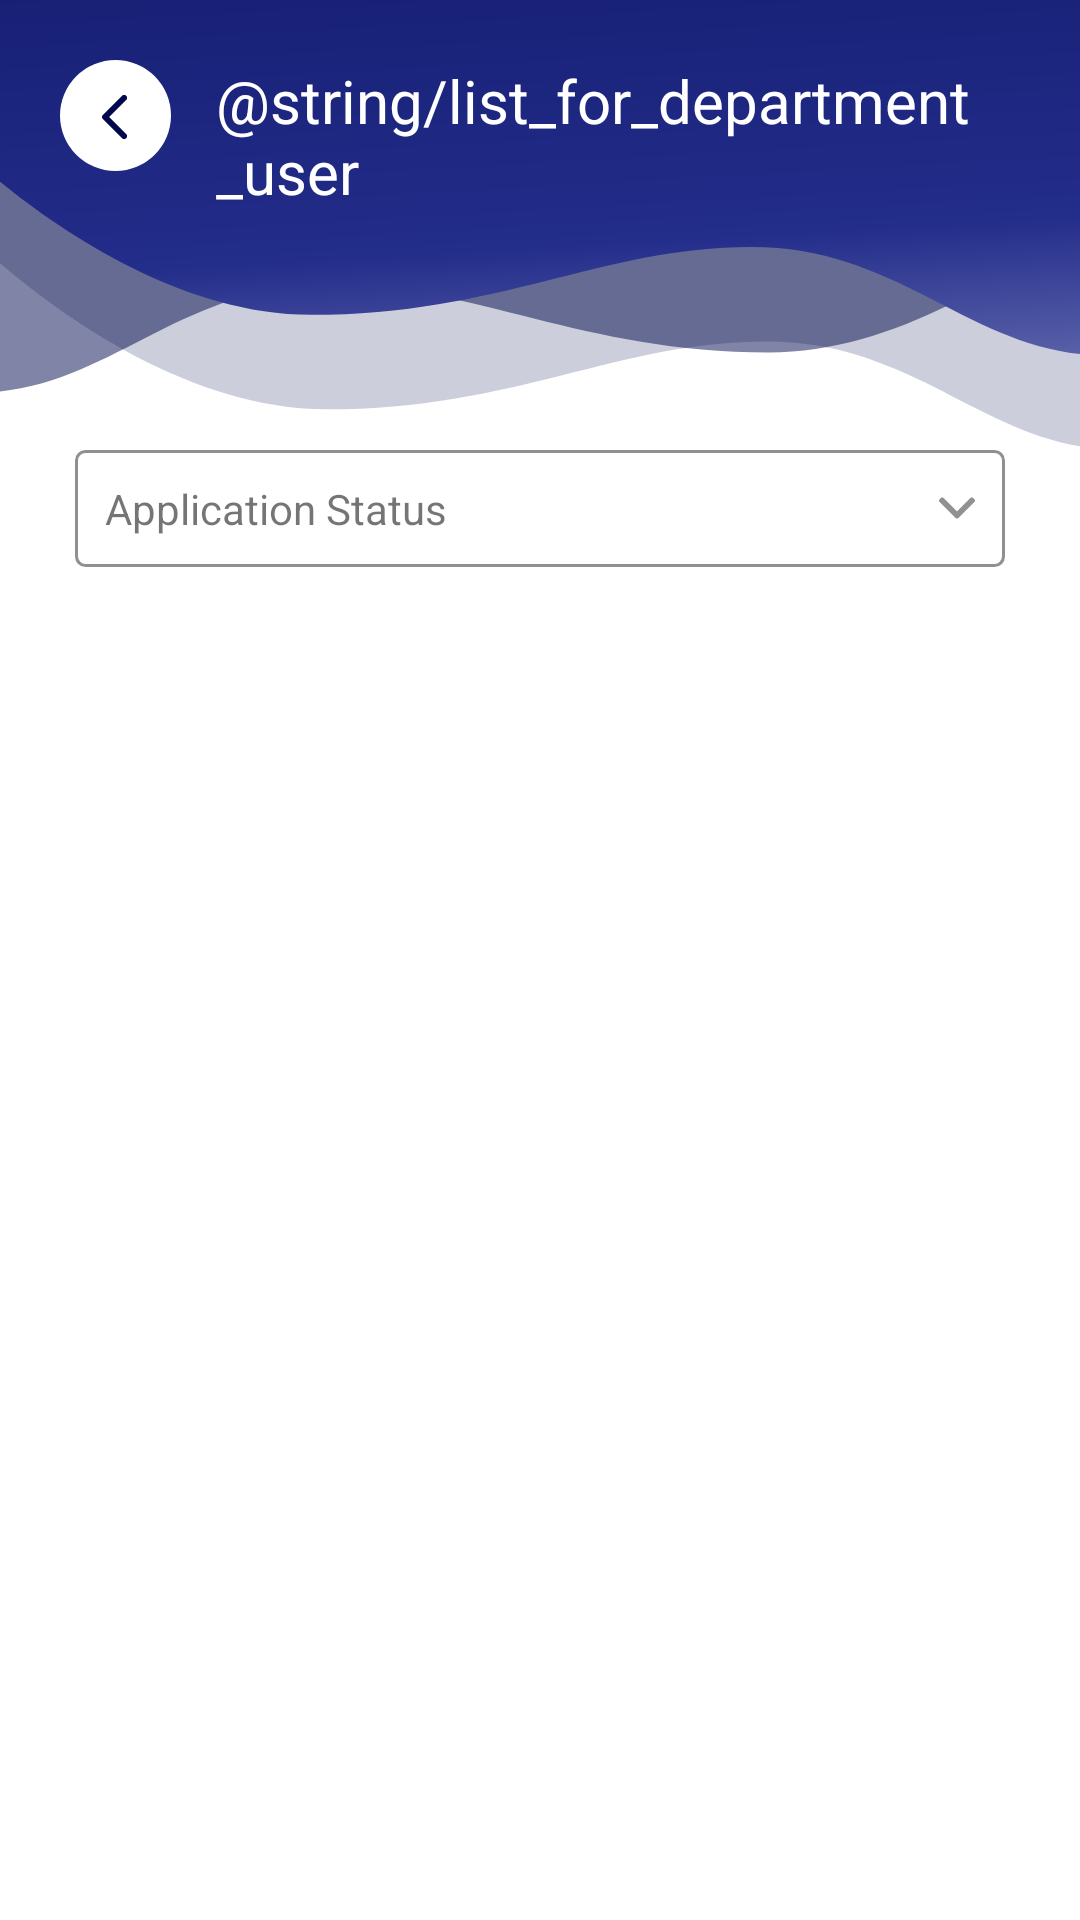

Named icons in this screenshot (1080 x 1920) and their bounding boxes, [x1=x1, y1=y1, x2=x2, y2=y2]:
back: [x1=60, y1=60, x2=171, y2=171]
